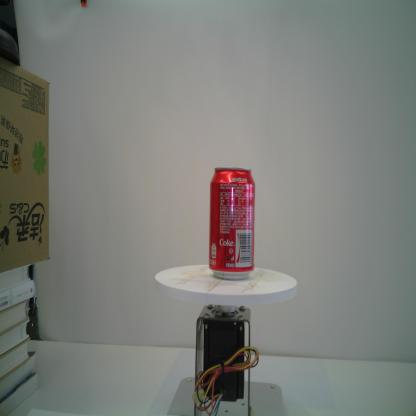Drink: (206, 164, 256, 284)
